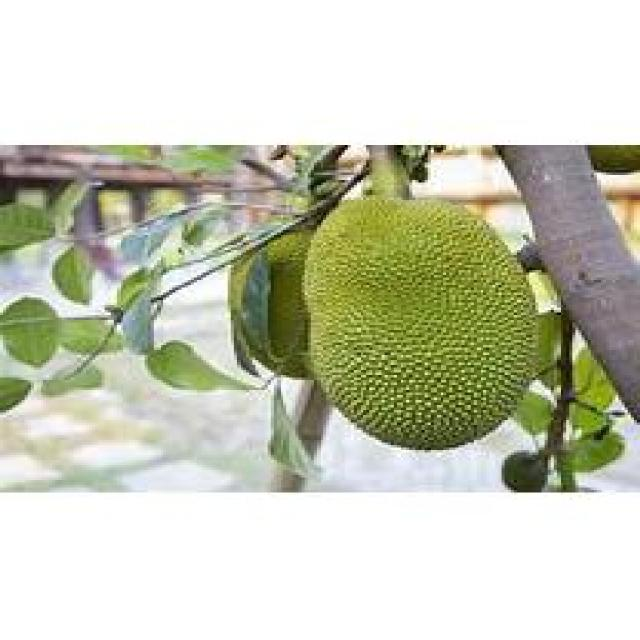Fruit: (292, 185, 554, 460)
